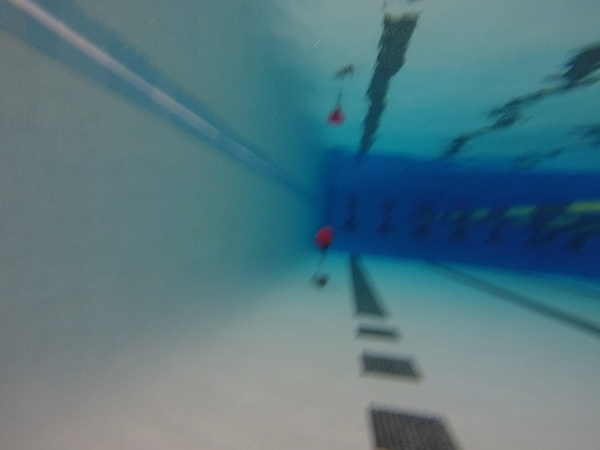buoy_red: (314, 227, 332, 252)
